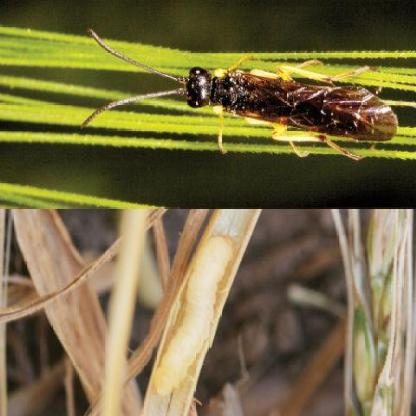sawfly: (69, 26, 401, 168)
